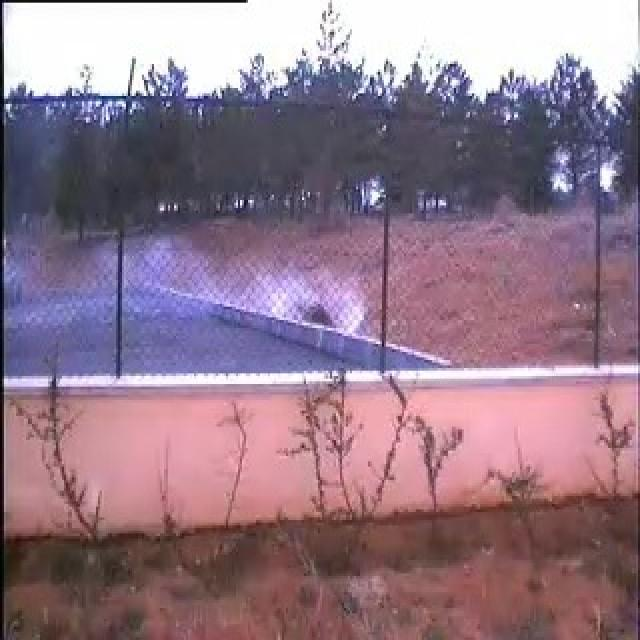smoke: (74, 235, 367, 375)
